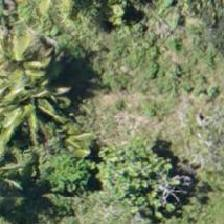coconut_tree: (0, 53, 69, 143)
